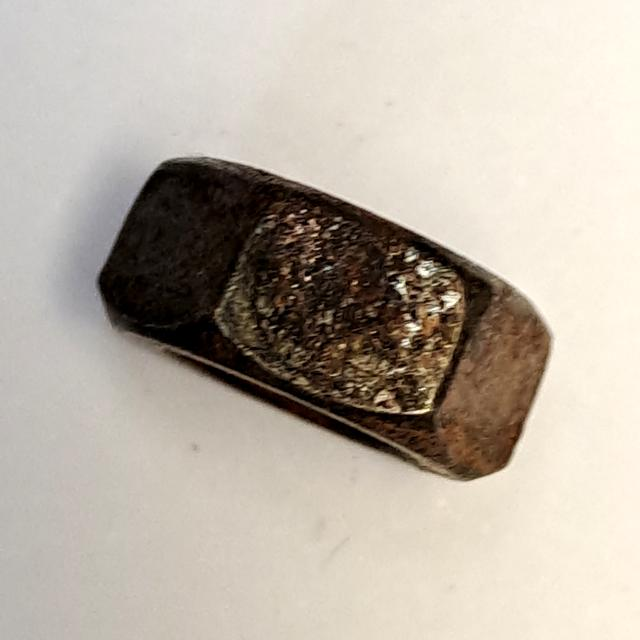Side_Rust: (81, 134, 584, 505)
